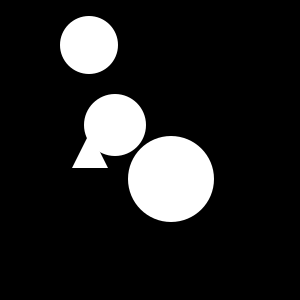rectangle: (128, 136, 214, 222), (84, 94, 146, 156), (60, 16, 118, 74)
triangle: (72, 132, 108, 168)
